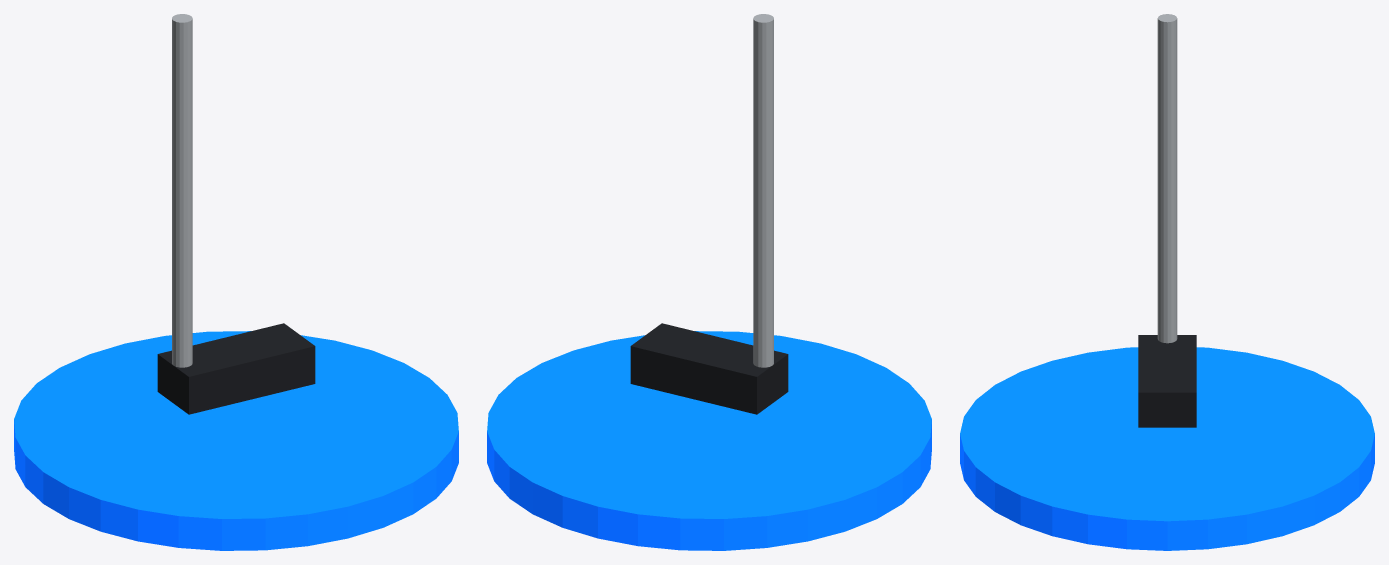
The model's file is sports_golf_club.dae.
3 views of the same model, side by side, from view 1: azimuth 30°, elevation 25°; view 2: azimuth 150°, elevation 25°; view 3: azimuth 270°, elevation 25° (orthographic). The views are drawn at different scales.
Parts seen in each view (by area): view 1: 04_18_Popular_Sports_Golf_Club_ROOT_base, 04_18_Popular_Sports_Golf_Club_part_02, 04_18_Popular_Sports_Golf_Club_part_01; view 2: 04_18_Popular_Sports_Golf_Club_ROOT_base, 04_18_Popular_Sports_Golf_Club_part_02, 04_18_Popular_Sports_Golf_Club_part_01; view 3: 04_18_Popular_Sports_Golf_Club_ROOT_base, 04_18_Popular_Sports_Golf_Club_part_01, 04_18_Popular_Sports_Golf_Club_part_02.
Boxes of the visible parts, x1,y1,x2,y2 form: 04_18_Popular_Sports_Golf_Club_ROOT_base: (14, 331, 458, 550); 04_18_Popular_Sports_Golf_Club_part_02: (157, 323, 315, 414); 04_18_Popular_Sports_Golf_Club_part_01: (172, 14, 192, 367); 04_18_Popular_Sports_Golf_Club_ROOT_base: (487, 331, 931, 550); 04_18_Popular_Sports_Golf_Club_part_02: (630, 323, 788, 414); 04_18_Popular_Sports_Golf_Club_part_01: (753, 14, 773, 367); 04_18_Popular_Sports_Golf_Club_ROOT_base: (960, 347, 1374, 550); 04_18_Popular_Sports_Golf_Club_part_01: (1157, 14, 1177, 343); 04_18_Popular_Sports_Golf_Club_part_02: (1138, 335, 1196, 427).
Size of the model in its own units: 0.76 by 0.85 by 0.76.
